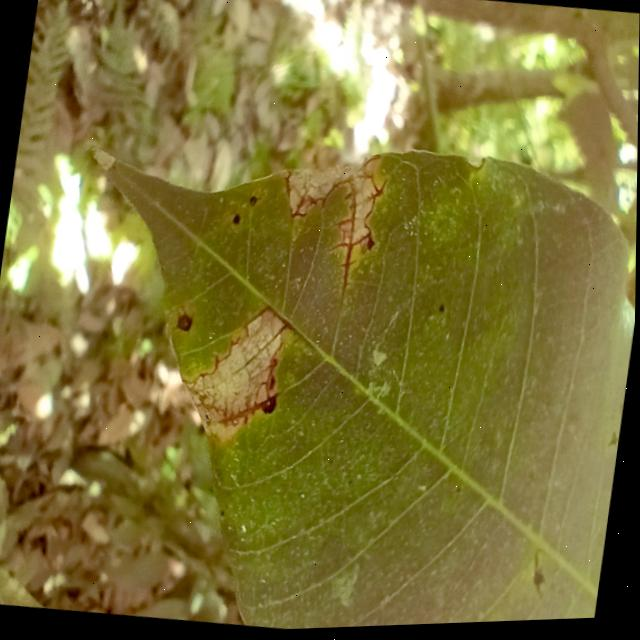Colletotrichum: (176, 313, 193, 333), (231, 214, 240, 228), (248, 197, 257, 208), (438, 307, 445, 316)
Corynespora: (323, 171, 387, 300), (217, 386, 280, 435), (253, 305, 299, 341)
Leaf-Blight: (178, 303, 284, 449), (282, 150, 368, 224)
